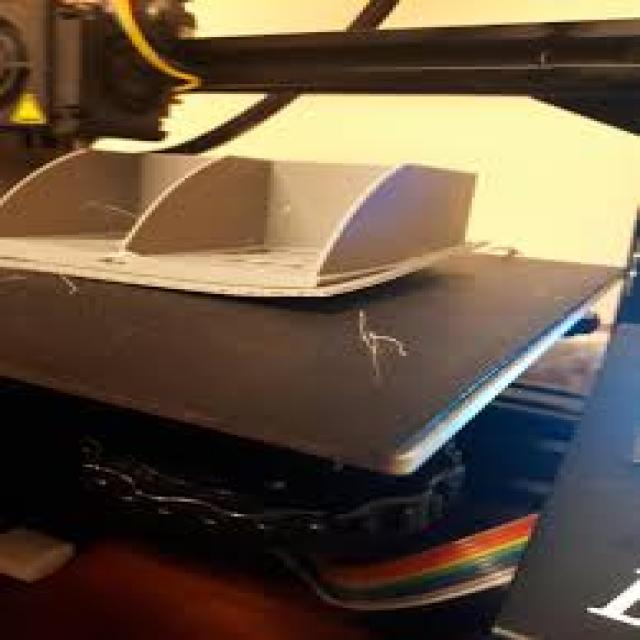Warping: (168, 242, 488, 310)
